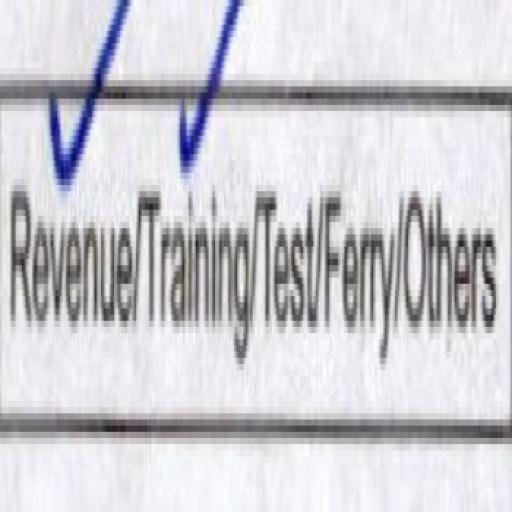check: (0, 0, 140, 496), (142, 0, 257, 500)
